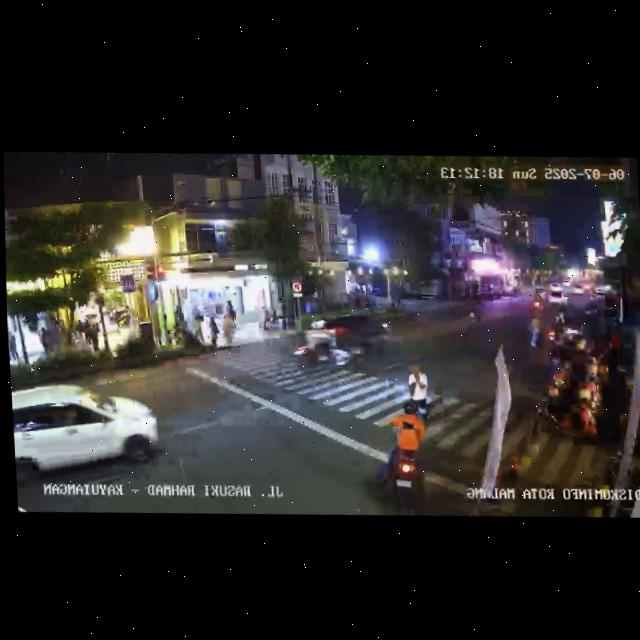car: (11, 379, 164, 497), (302, 310, 394, 364), (545, 285, 570, 306)
motorcycle: (373, 397, 430, 509), (292, 324, 355, 372), (525, 313, 544, 351), (465, 303, 482, 327), (532, 289, 545, 311)
person: (402, 363, 438, 420), (84, 314, 98, 353), (222, 312, 236, 347), (194, 311, 207, 347), (209, 314, 220, 348), (7, 328, 17, 363), (74, 321, 84, 350)
